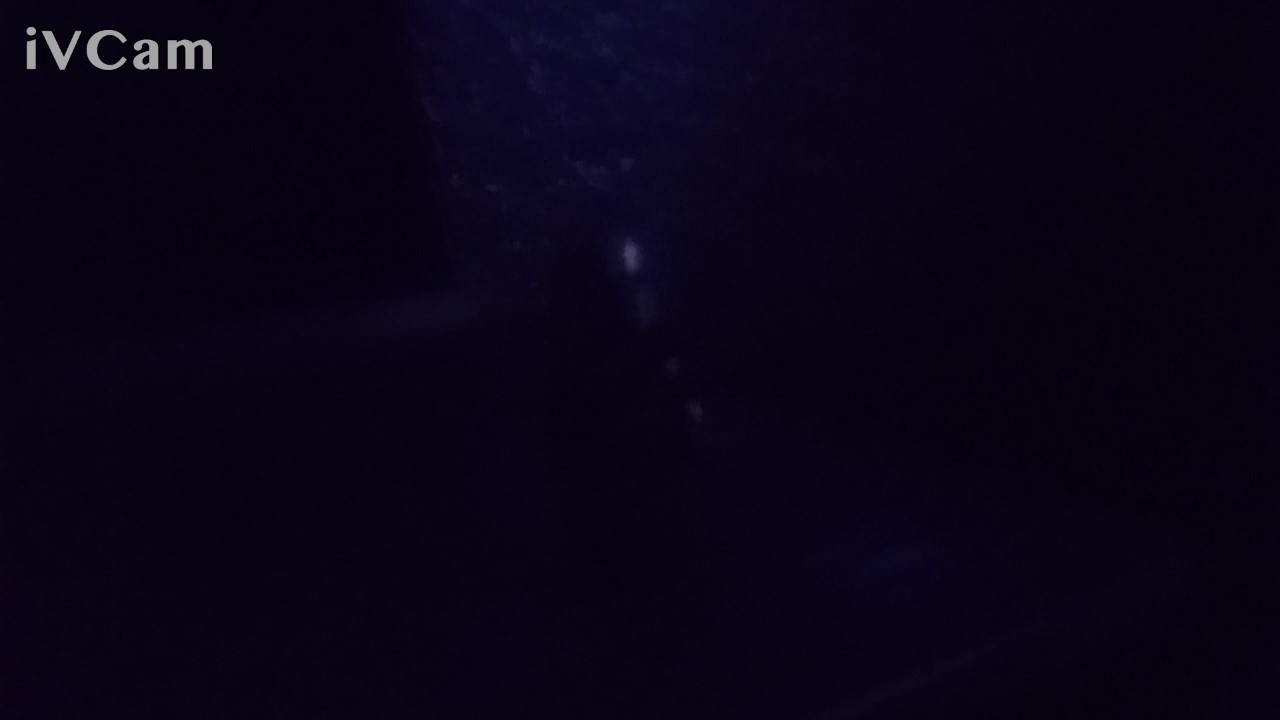mandalorian: (543, 216, 757, 608)
